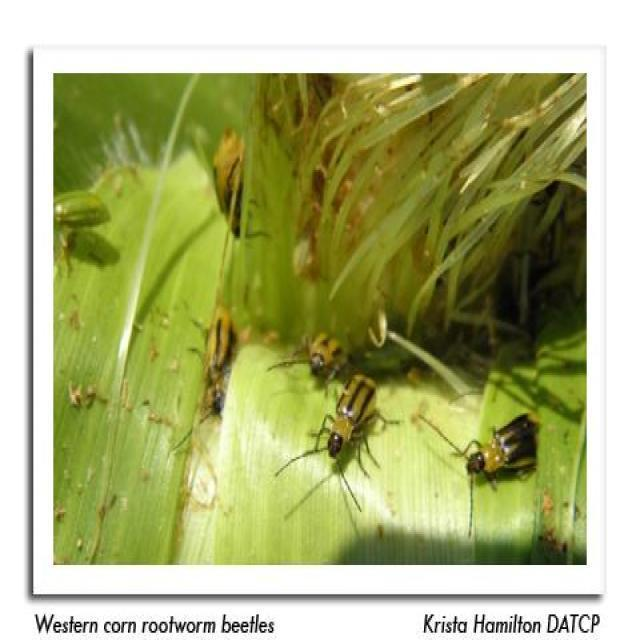trips: (419, 409, 536, 536), (275, 374, 381, 512), (170, 304, 238, 448), (266, 333, 352, 381)
